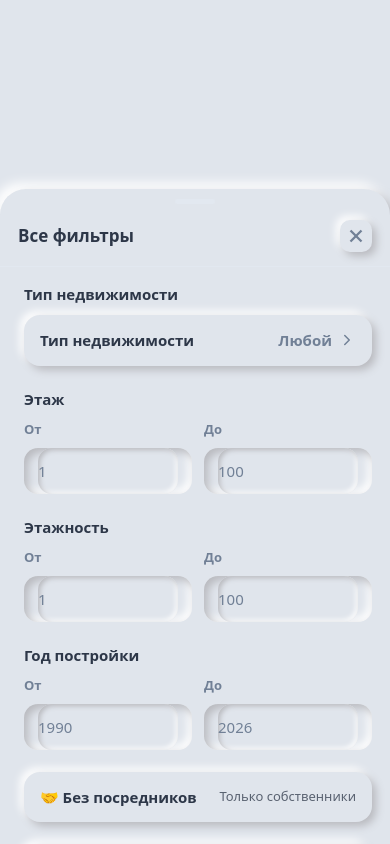
Test: FilterBottomSheet — полноэкранные выборы › тип недвижимости: поиск фильтрует список
Click the button "Тип недвижимости Любой" at [117, 340], box x1=24 y1=315 x2=372 y2=366
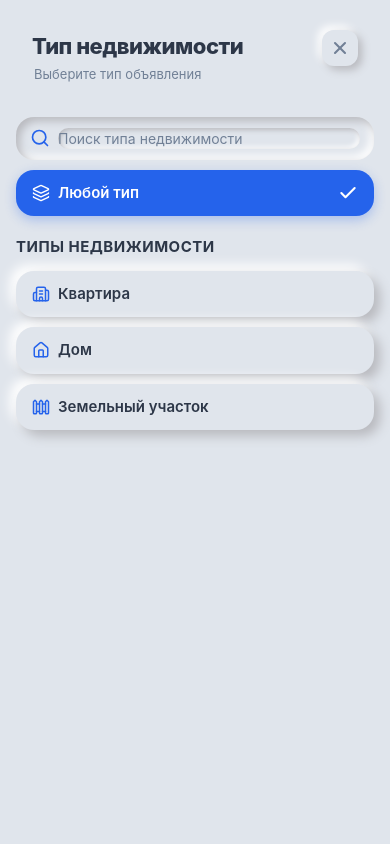
Type "дом" into the field labelled "Поиск типа недвижимости" at [209, 138], box x1=58 y1=128 x2=360 y2=148
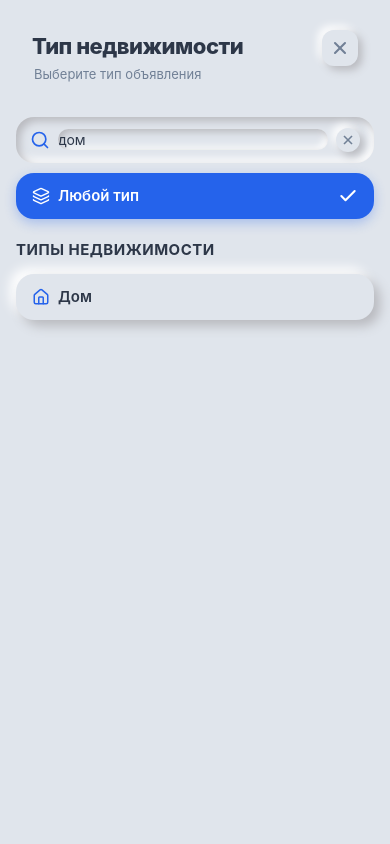
Expected: the text "Дом" is shown, x1=32 y1=286 x2=92 y2=306
Expected: the button "Квартира" is gone
